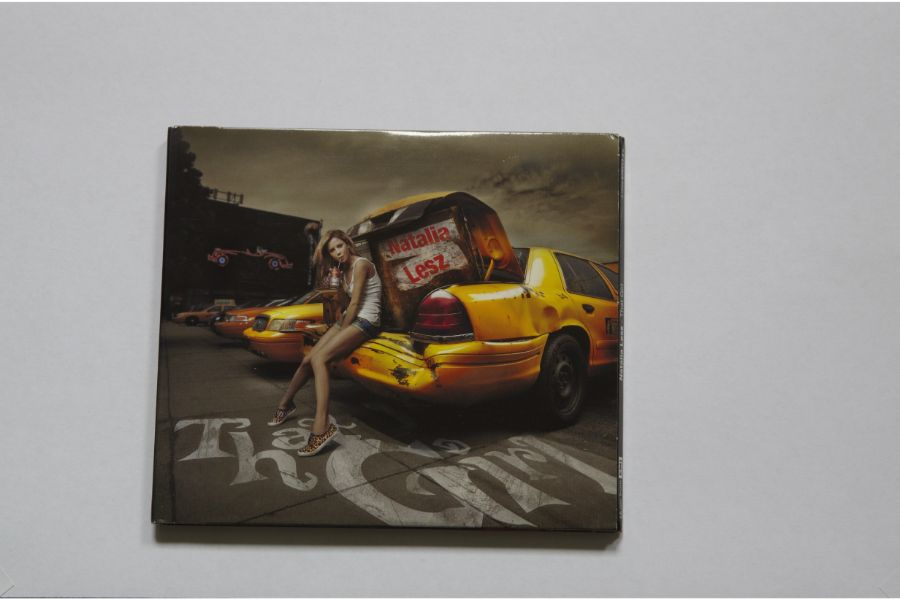album: (144, 125, 624, 536)
